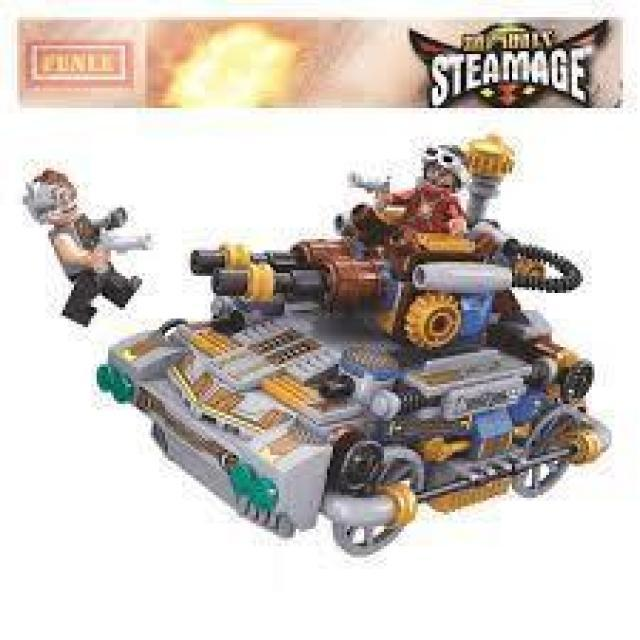MIL_MBT: (75, 110, 576, 604)
